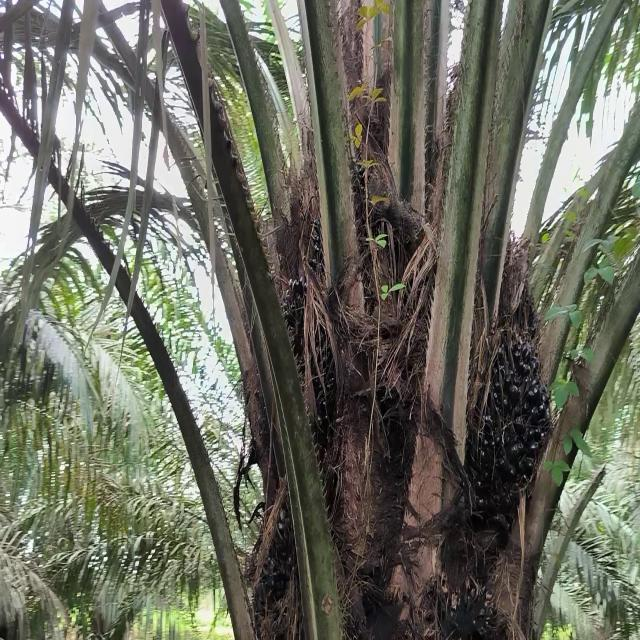palm-oil: (458, 327, 550, 550), (258, 274, 339, 472)
